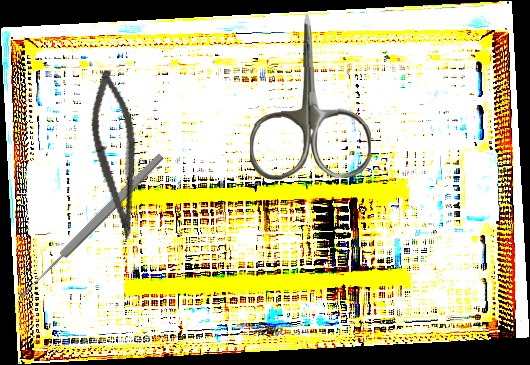Iris Scissors: (247, 11, 372, 181)
Micro Scissor: (80, 67, 155, 243)
Surgical Spoon: (16, 151, 166, 301)
